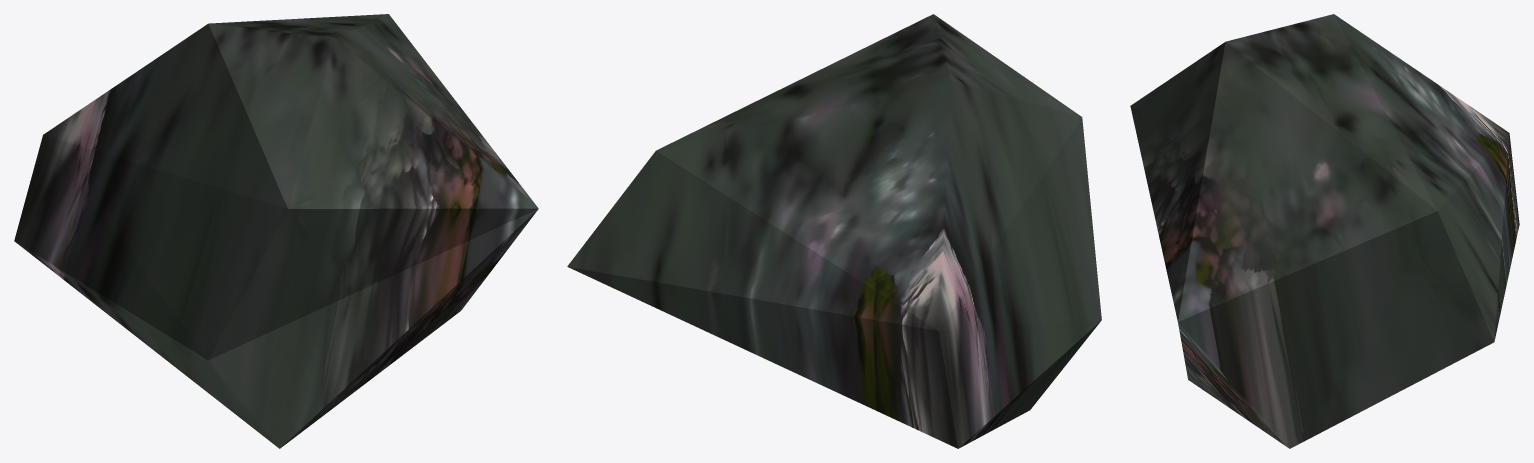
The model's file is TheOctagon_Floor_0_Rock_8.gltf.
The picture shows the model from 3 angles, left to right: view 1: azimuth 30°, elevation 25°; view 2: azimuth 150°, elevation 25°; view 3: azimuth 270°, elevation 25°; orthographic projection. The views are drawn at different scales.
Parts seen in each view (by area): view 1: TheOctagon_Floor_0_Rock_8; view 2: TheOctagon_Floor_0_Rock_8; view 3: TheOctagon_Floor_0_Rock_8.
Part boxes in pixels (x1=…): TheOctagon_Floor_0_Rock_8: x1=14, y1=14, x2=538, y2=448; TheOctagon_Floor_0_Rock_8: x1=567, y1=14, x2=1101, y2=448; TheOctagon_Floor_0_Rock_8: x1=1130, y1=14, x2=1519, y2=448.
Size of the model in its own units: 3.03 by 2.81 by 2.65.
Materials: 1 (1 with a texture image).
